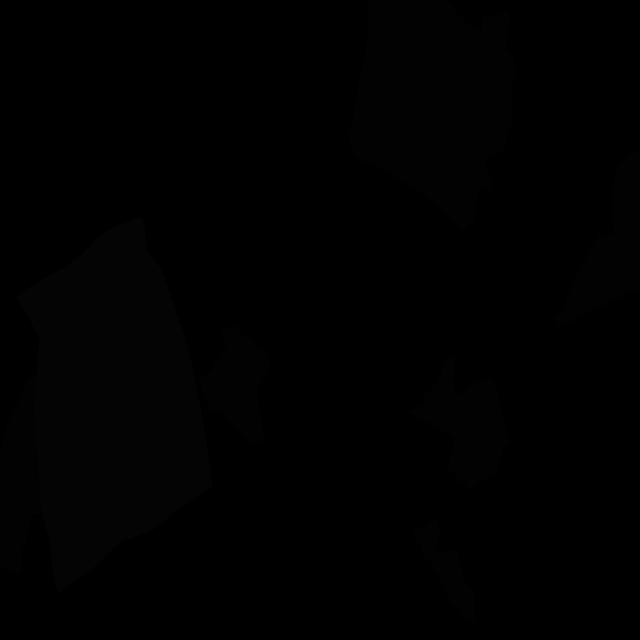cardboard: (348, 0, 516, 231), (554, 151, 640, 330), (403, 355, 512, 492), (199, 325, 270, 445), (0, 375, 42, 577), (412, 515, 476, 622)
soft_plastic: (16, 217, 212, 592)
